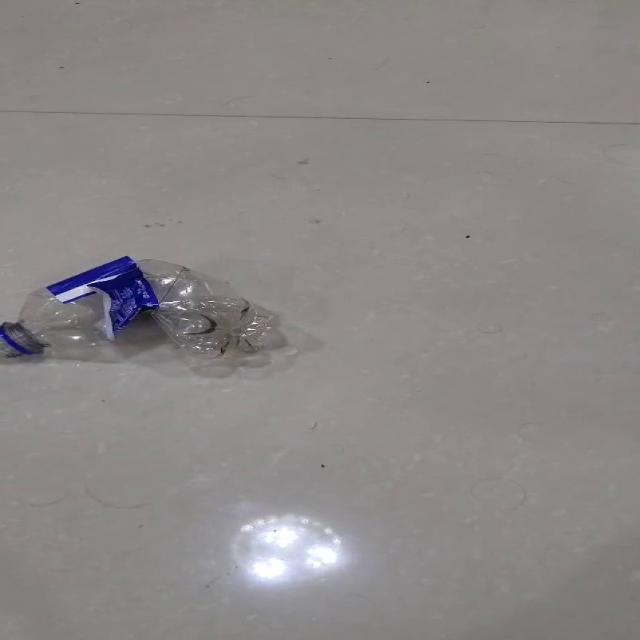plastic: (2, 255, 286, 364)
